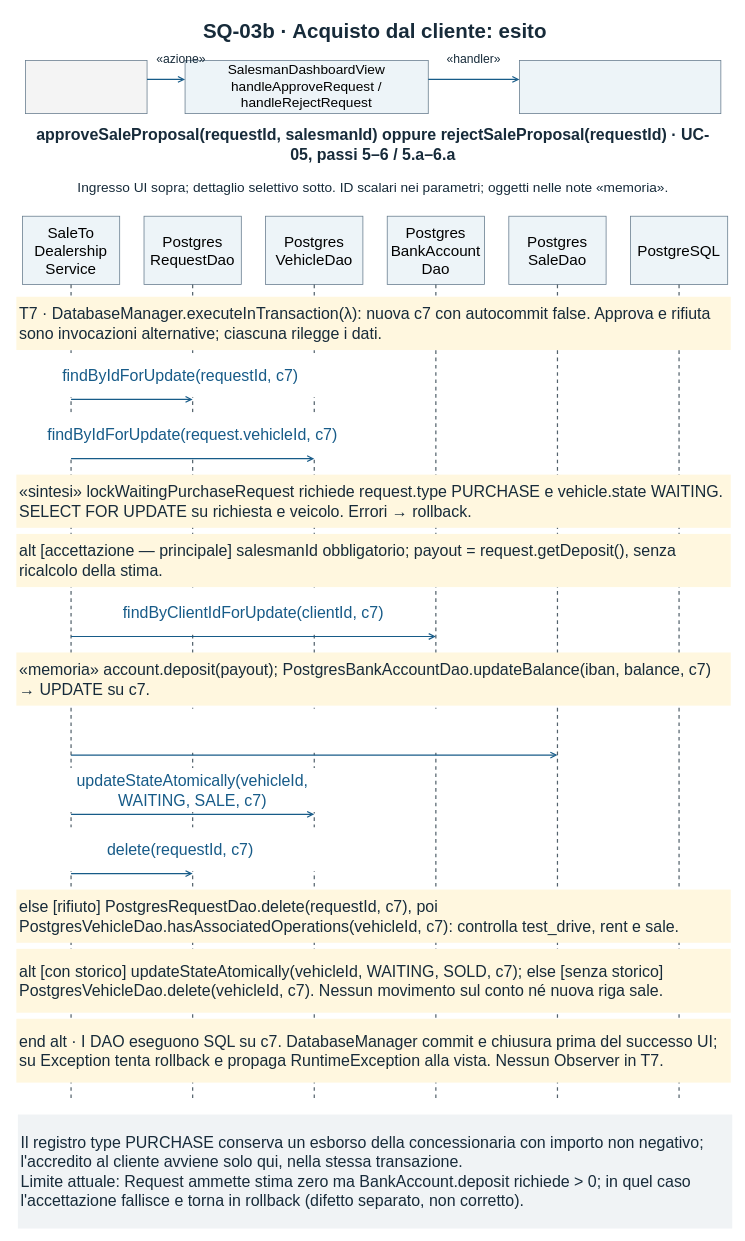
This 745x1241 diagram has some shape labels left out. The box of each missing label's shape, as (x1, y1, x2, y2) in pixels:
SaleToDealershipService: (519, 60, 721, 114)
save(Sale.createPurchaseRecord( vehicleId, salesmanId, clientId, payout), c7): (74, 708, 554, 752)
Venditore: decide: (25, 60, 147, 114)
